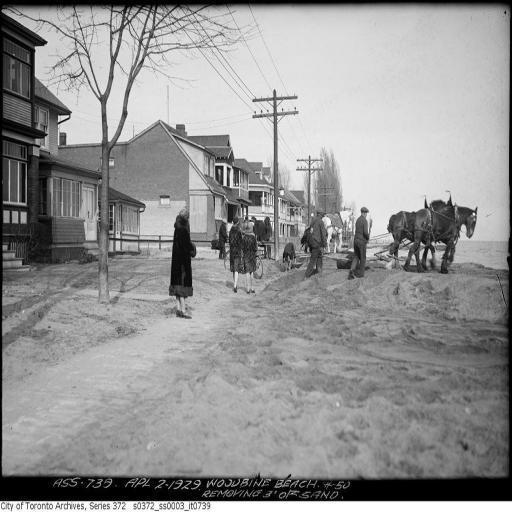horse: (420, 206, 478, 276), (386, 195, 436, 274)
